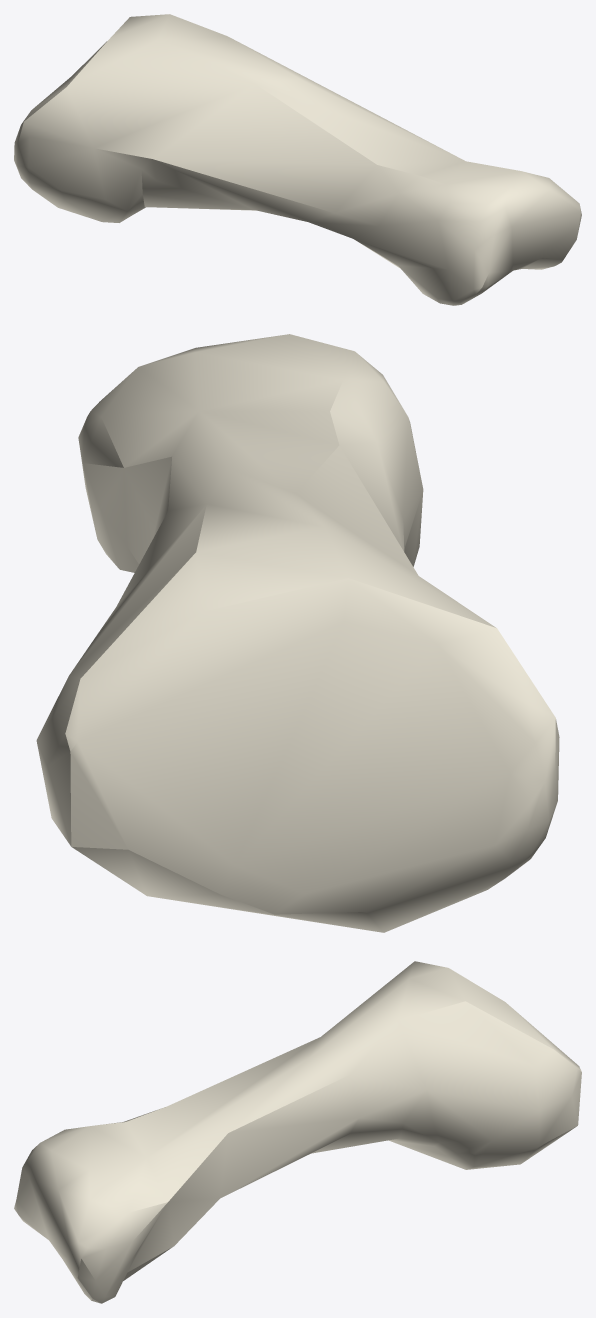
Rendered from fma32641_fj6420.glb.
The picture shows the model from 3 angles, top to bottom: view 1: azimuth 30°, elevation 25°; view 2: azimuth 150°, elevation 25°; view 3: azimuth 270°, elevation 25°; orthographic projection. The views are drawn at different scales.
Visible parts, largest first — view 1: FMA32641_FJ6420; view 2: FMA32641_FJ6420; view 3: FMA32641_FJ6420.
Part boxes in pixels (<box>): FMA32641_FJ6420: <box>14,14,581,305</box>; FMA32641_FJ6420: <box>36,334,559,932</box>; FMA32641_FJ6420: <box>14,961,581,1303</box>.
Size of the model in its own units: 0.022 by 0.00965 by 0.0253.
